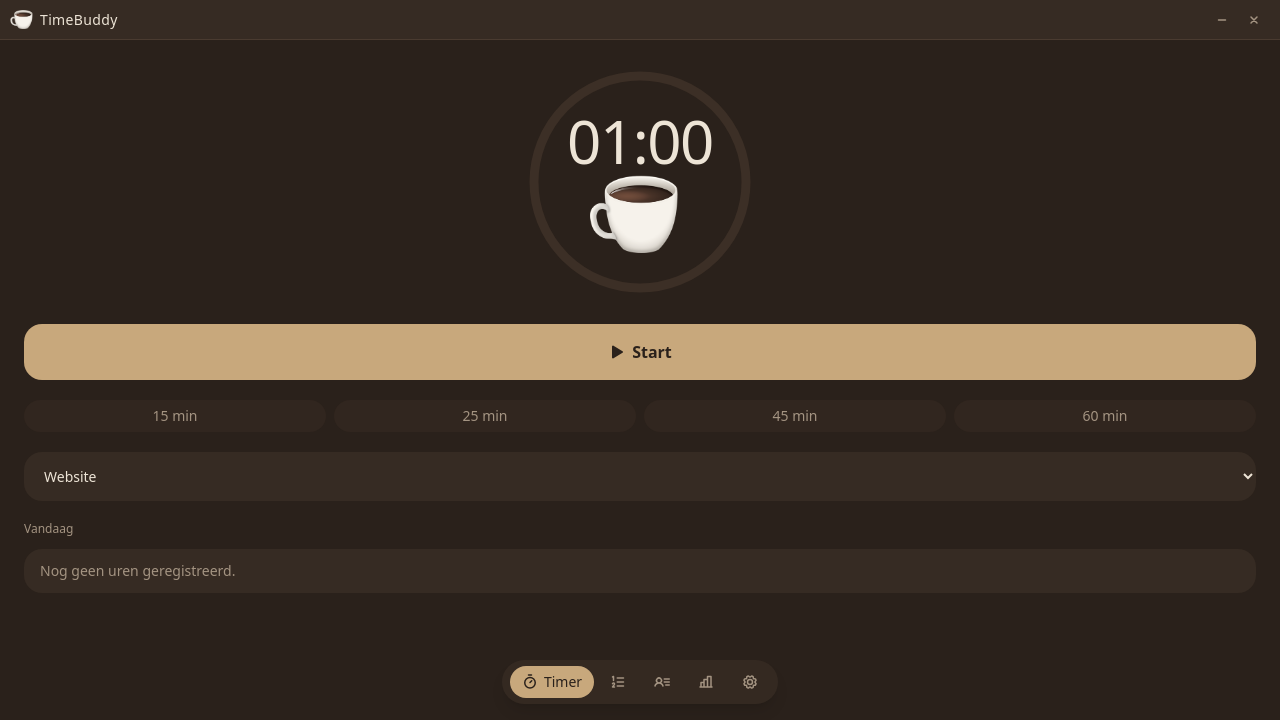
Scenario: walking away from a running block and coming back › is still the block this session started, not one found on the floor
Click the button "Start" at (640, 352), box left=24, top=324, right=1256, bottom=380
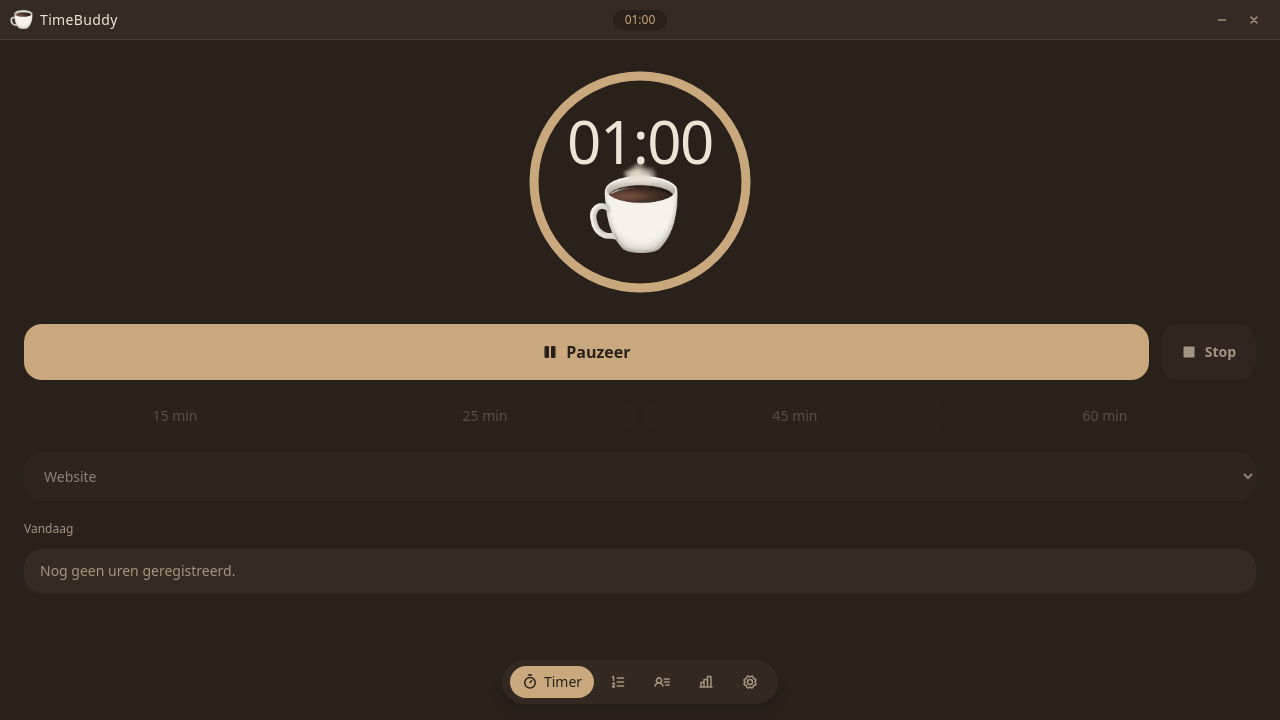
Check: the button "Stop" is shown, box left=1161, top=324, right=1256, bottom=380
Click the tab named "Klanten" at (662, 682), box left=654, top=674, right=670, bottom=690
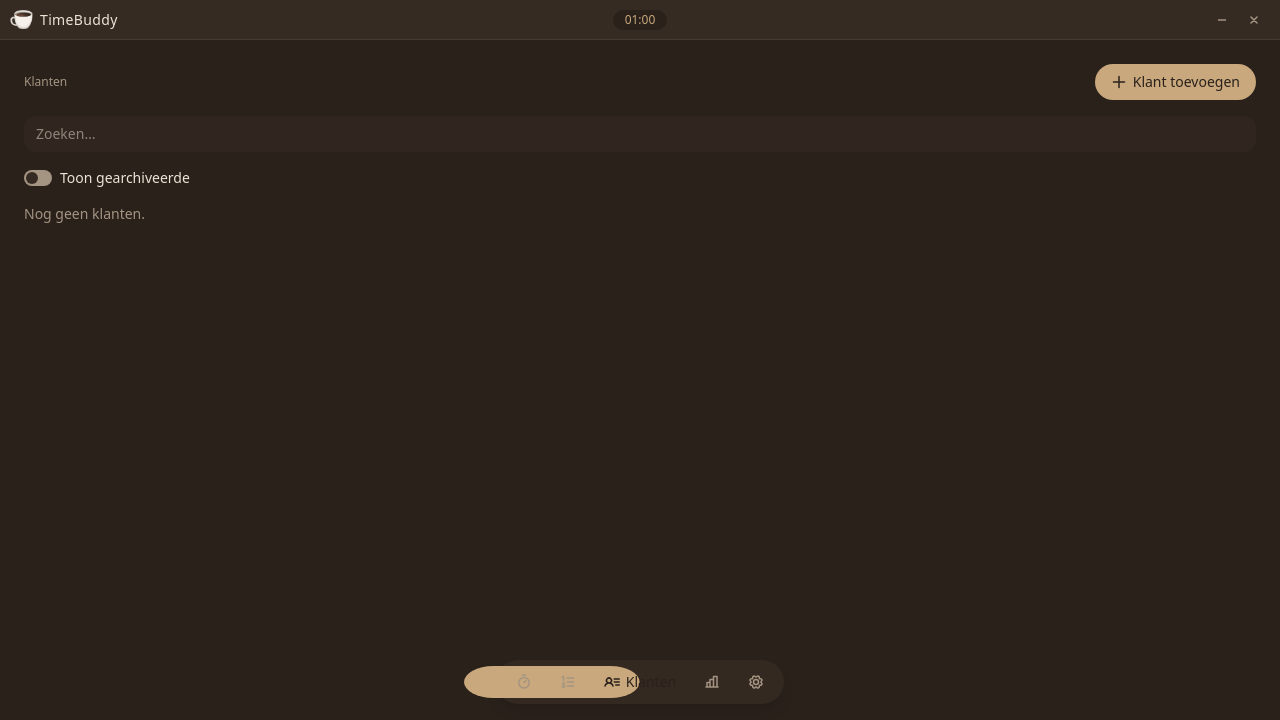
Check: the heading "Vandaag" is gone
Click the tab named "Timer" at (524, 682), box left=516, top=674, right=532, bottom=690
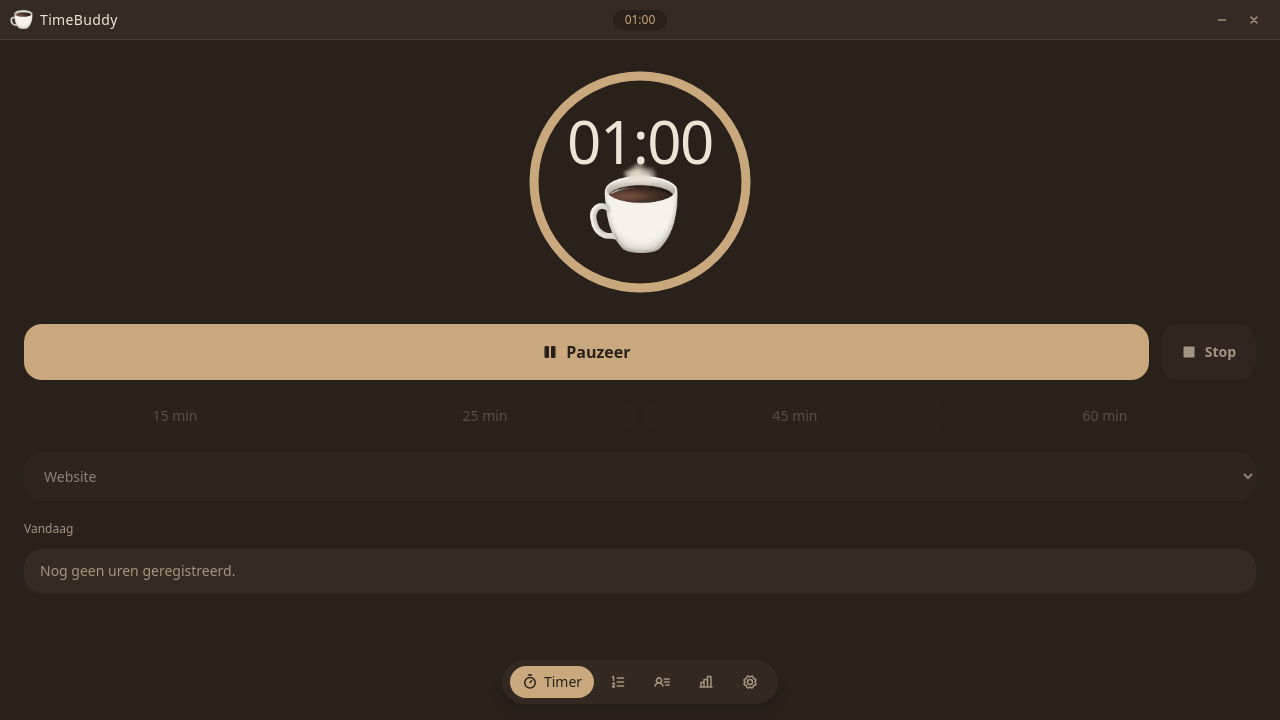
Check: the heading "Vandaag" is shown, box left=24, top=520, right=73, bottom=537
Check: the button "Stop" is shown, box left=1161, top=324, right=1256, bottom=380
